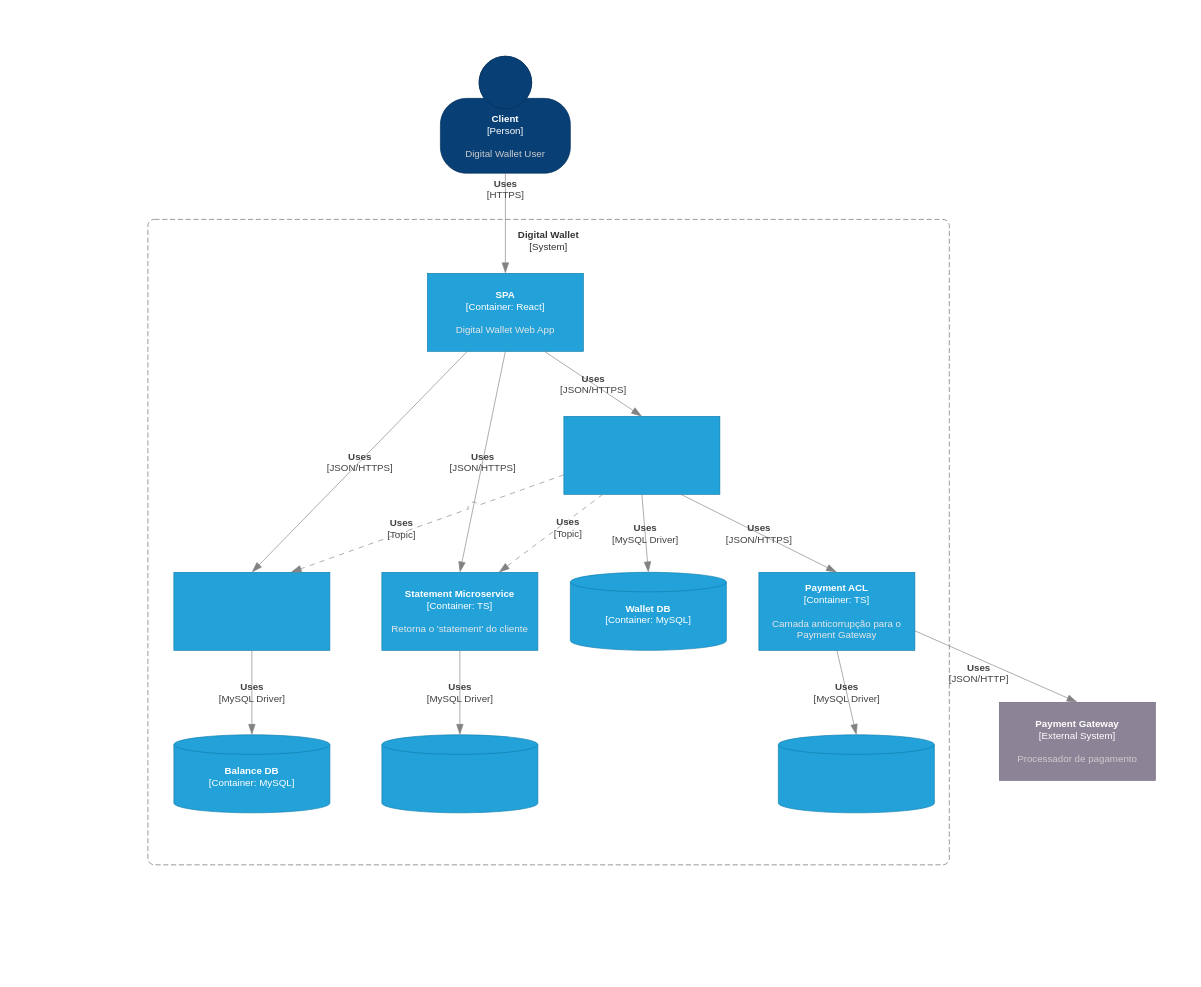
This 1201x987 diagram has some shape labels left out. The shapes that lost their labels are listed below. From the top down, each one's centre as x and y in pixels, then its label:
At (x=641, y=455): "Wallet Core [Container: TS] Wallet Core é responsável pelas transações".
At (x=251, y=611): "Balance Microservice [Container: TS] Retorna o 'balance' do cliente".
At (x=459, y=773): "Statement DB [Container: MySQL]".
At (x=856, y=773): "Payment ACL DB [Container: MySQL]".
